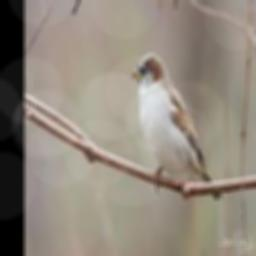Sparrow: (131, 51, 223, 200)
